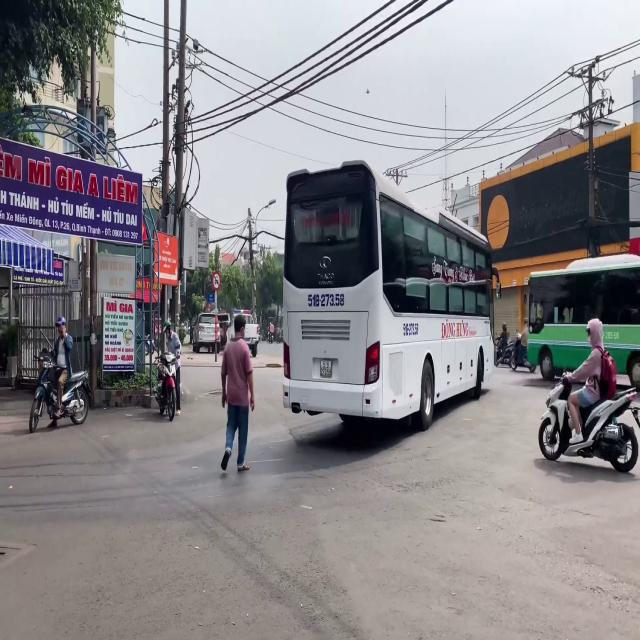bien_trang: (320, 361, 332, 377)
